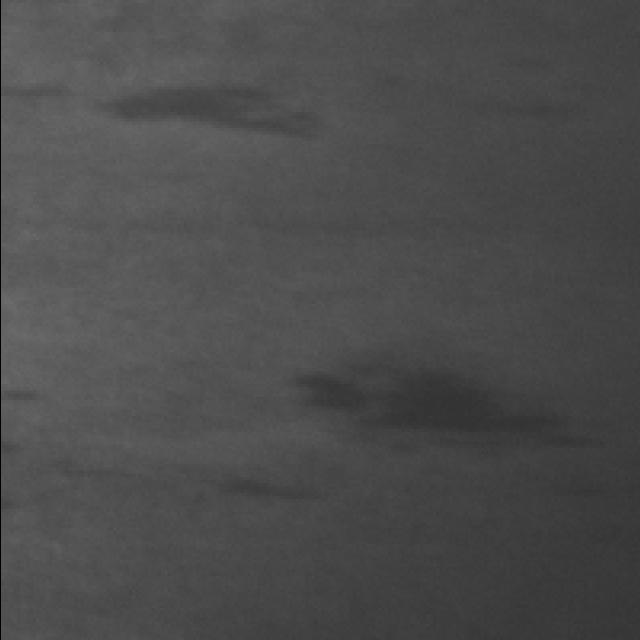inclusion: (297, 379, 569, 451), (91, 66, 326, 143), (192, 458, 303, 511), (0, 68, 72, 117)
